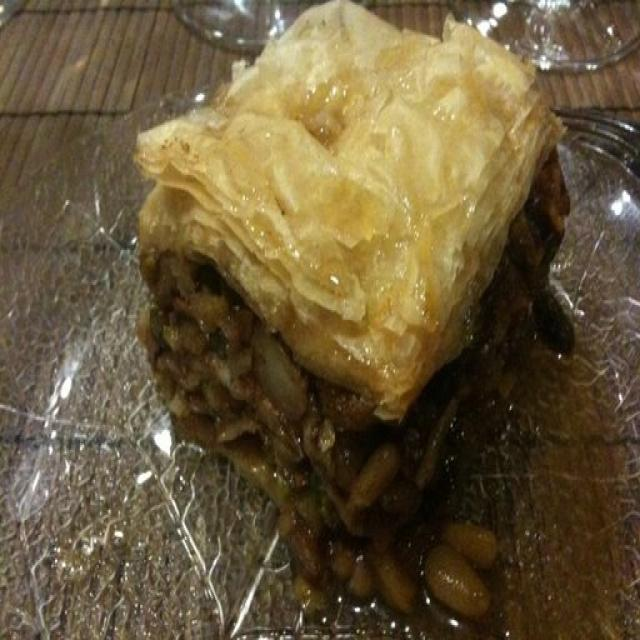Baklawa: (130, 0, 576, 622)
